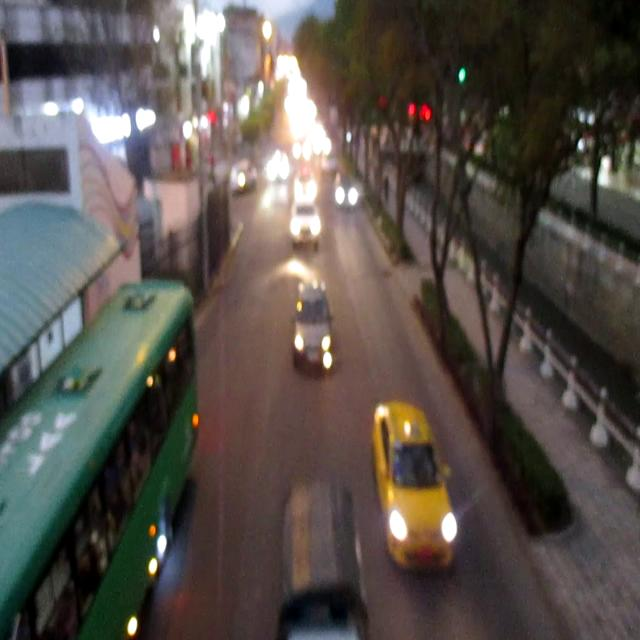BUS: (4, 286, 202, 638)
